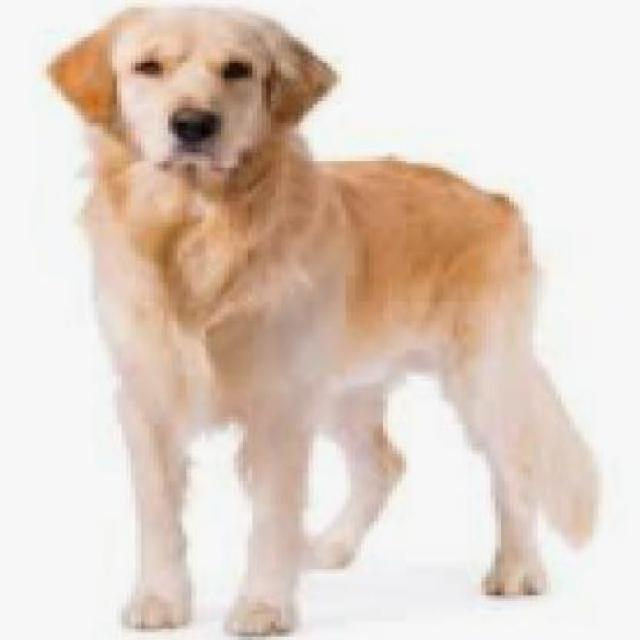Dog: (42, 5, 608, 637)
